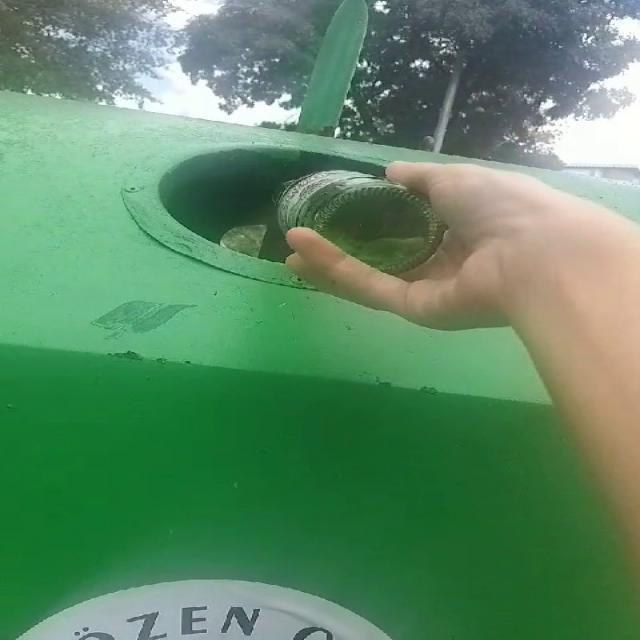Glass: (276, 170, 448, 273)
